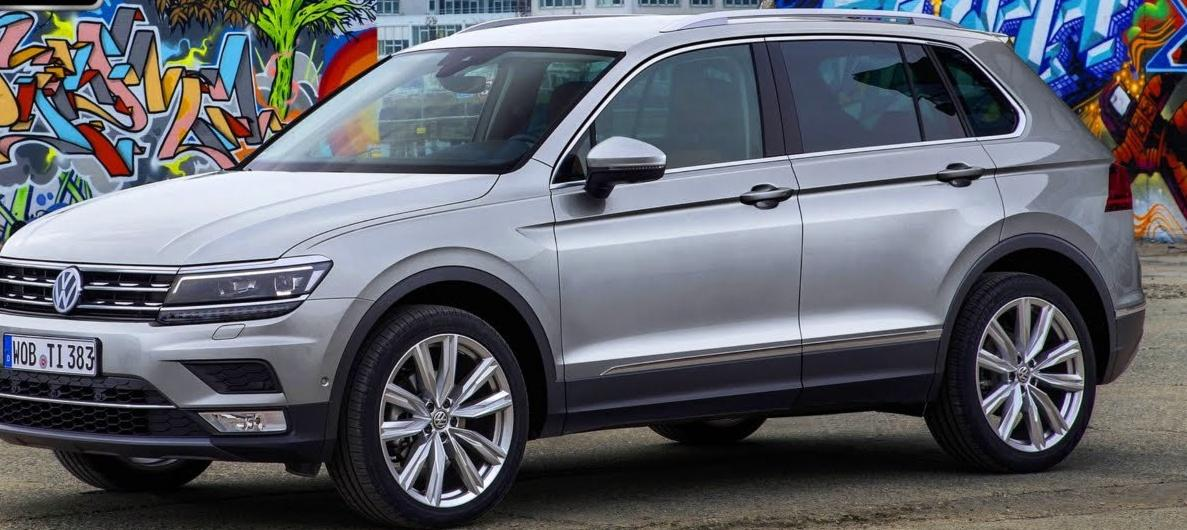SUV: (1, 10, 1146, 527)
